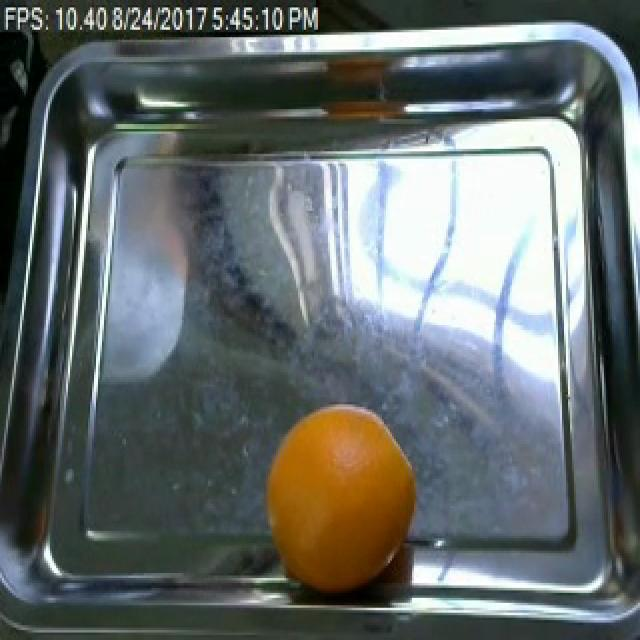Fruit: (264, 400, 426, 596)
